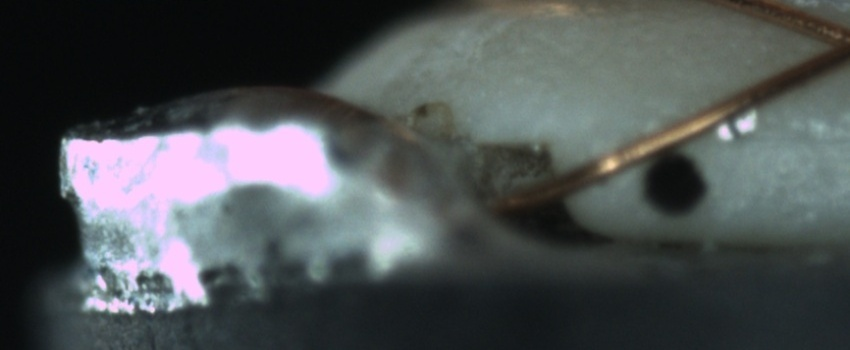CL: (800, 10, 850, 77)
DL: (693, 106, 849, 170)
